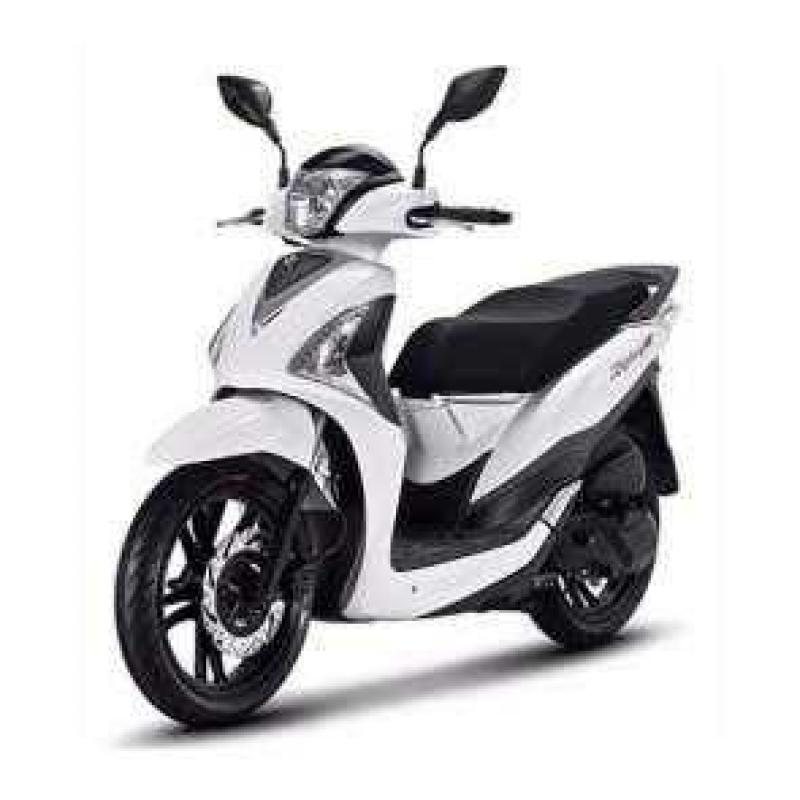bike: (90, 46, 688, 675)
